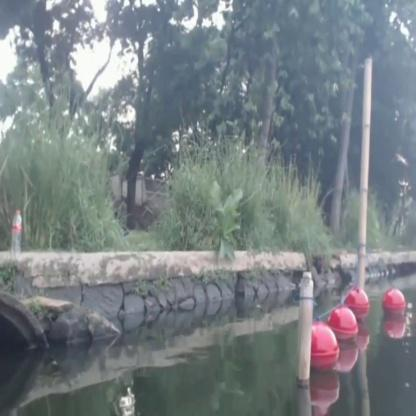red_buoy: (314, 327, 340, 373), (383, 288, 406, 326), (334, 308, 354, 346), (352, 288, 368, 320)
